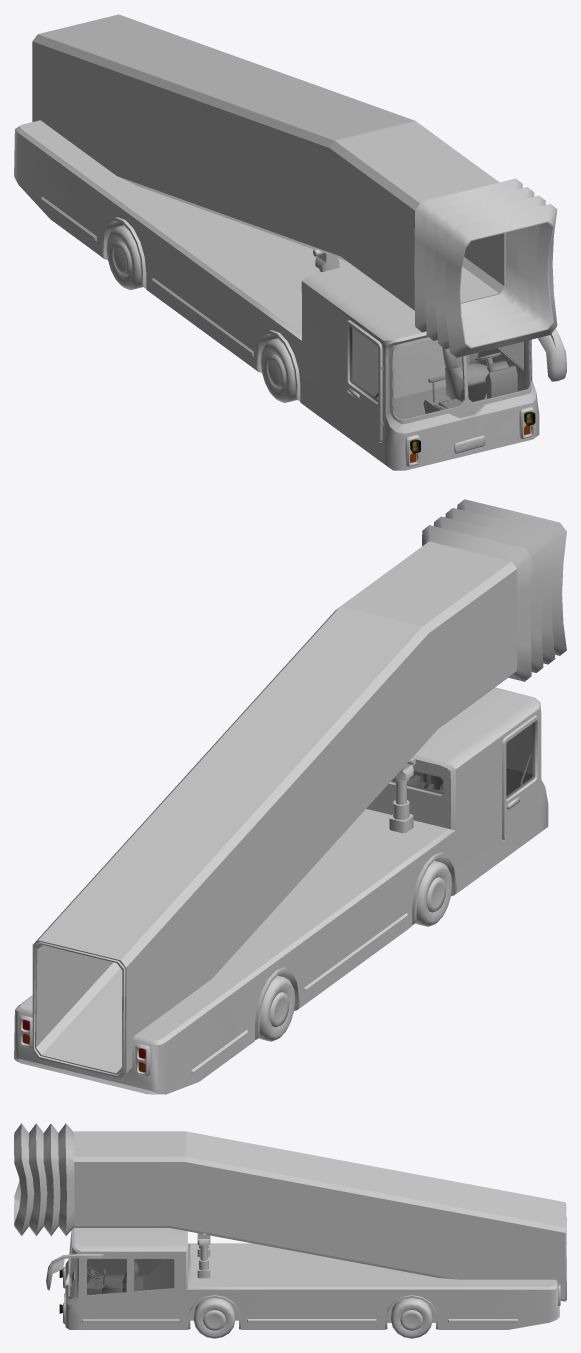
The model's file is TP_Loading_Truck_01B.fbx.
3 views of the same model, one above another, from view 1: azimuth 30°, elevation 25°; view 2: azimuth 150°, elevation 25°; view 3: azimuth 270°, elevation 25° (orthographic). The views are drawn at different scales.
Visible parts, largest first — view 1: TP_Loading_Truck_01B_Body, TP_Loading_Truck_01B_Door, TP_Loading_Truck_01B_Wheel_F.R, TP_Loading_Truck_01B_Wheel_R.R; view 2: TP_Loading_Truck_01B_Body, TP_Loading_Truck_01B_Door, TP_Loading_Truck_01B_Wheel_R.R, TP_Loading_Truck_01B_Wheel_F.R; view 3: TP_Loading_Truck_01B_Body, TP_Loading_Truck_01B_Wheel_F.L, TP_Loading_Truck_01B_Wheel_R.L, TP_Loading_Truck_01B_Door.
Boxes of the visible parts, x1,y1,x2,y2 form: TP_Loading_Truck_01B_Body: [14, 14, 566, 470]; TP_Loading_Truck_01B_Door: [345, 319, 383, 442]; TP_Loading_Truck_01B_Wheel_F.R: [260, 338, 297, 402]; TP_Loading_Truck_01B_Wheel_R.R: [106, 225, 143, 290]; TP_Loading_Truck_01B_Body: [14, 499, 566, 1094]; TP_Loading_Truck_01B_Door: [502, 715, 539, 839]; TP_Loading_Truck_01B_Wheel_R.R: [258, 975, 295, 1041]; TP_Loading_Truck_01B_Wheel_F.R: [415, 860, 452, 926]; TP_Loading_Truck_01B_Body: [14, 1123, 566, 1329]; TP_Loading_Truck_01B_Wheel_F.L: [193, 1298, 235, 1338]; TP_Loading_Truck_01B_Wheel_R.L: [391, 1298, 432, 1338]; TP_Loading_Truck_01B_Door: [87, 1259, 126, 1272].
Bounding box in the file's own units: 3.06 × 4.98 × 14.04.
